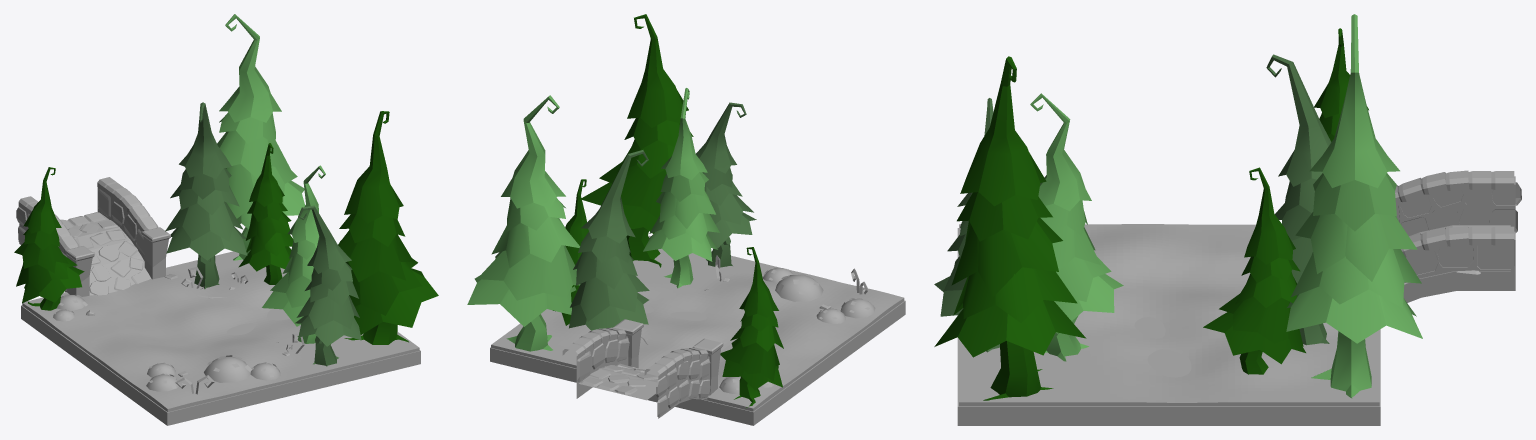
Rendered from entree_foret_v1 (1).fbx.
The picture shows the model from 3 angles, left to right: view 1: azimuth 30°, elevation 25°; view 2: azimuth 150°, elevation 25°; view 3: azimuth 270°, elevation 25°; orthographic projection. The views are drawn at different scales.
Parts seen in each view (by area): view 1: sol26, sapin13, Pont, sapin8, sapin9, sol10, sapin11, sapin26, sapin10, sapin12, Buisson32, Buisson30 (+1 smaller); view 2: sol26, sapin8, Pont, sapin13, sapin9, sapin12, sol10, sapin26, sapin11, sapin10, Buisson32, Buisson30; view 3: sol26, sapin8, sapin13, Pont, sol10, sapin10, sapin12, sapin9, sapin26, sapin11.
Boxes of the visible parts, left/top/right/bottom form: sol26: left=22, top=251, right=419, bottom=411; sapin13: left=338, top=111, right=438, bottom=344; Pont: left=16, top=177, right=170, bottom=297; sapin8: left=217, top=14, right=305, bottom=260; sapin9: left=165, top=102, right=247, bottom=289; sol10: left=21, top=305, right=420, bottom=425; sapin11: left=295, top=205, right=361, bottom=366; sapin26: left=14, top=167, right=84, bottom=310; sapin10: left=238, top=143, right=293, bottom=284; sapin12: left=262, top=165, right=325, bottom=343; Buisson32: left=204, top=355, right=252, bottom=382; Buisson30: left=146, top=373, right=179, bottom=391; sol26: left=491, top=235, right=904, bottom=411; sapin8: left=467, top=95, right=580, bottom=351; Pont: left=562, top=319, right=723, bottom=418; sapin13: left=581, top=14, right=693, bottom=267; sapin9: left=569, top=150, right=649, bottom=330; sapin12: left=643, top=88, right=719, bottom=288; sol10: left=490, top=300, right=905, bottom=425; sapin26: left=720, top=247, right=783, bottom=407; sapin11: left=696, top=102, right=756, bottom=267; sapin10: left=553, top=179, right=588, bottom=325; Buisson32: left=775, top=274, right=823, bottom=301; Buisson30: left=840, top=298, right=875, bottom=318; sol26: left=959, top=224, right=1379, bottom=406; sapin8: left=1286, top=14, right=1422, bottom=398; sapin13: left=934, top=56, right=1086, bottom=400; Pont: left=1395, top=170, right=1521, bottom=302; sol10: left=957, top=228, right=1380, bottom=425; sapin10: left=1203, top=167, right=1305, bottom=374; sapin12: left=1030, top=93, right=1123, bottom=361; sapin9: left=1266, top=54, right=1331, bottom=345; sapin26: left=1314, top=28, right=1368, bottom=141; sapin11: left=934, top=98, right=999, bottom=352.
Bounding box in the file's own units: 939 × 788 × 1112.
